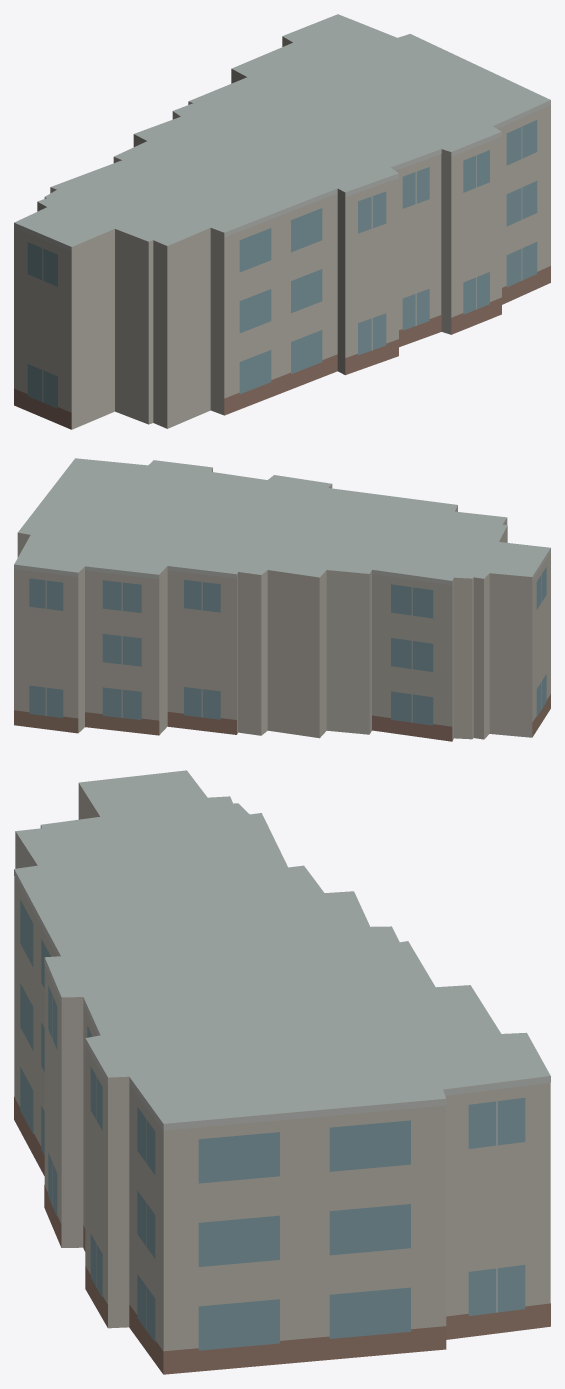
Rendered from survey-upis-32524005.glb.
The picture shows the model from 3 angles, top to bottom: view 1: azimuth 30°, elevation 25°; view 2: azimuth 150°, elevation 25°; view 3: azimuth 270°, elevation 25°; orthographic projection. The views are drawn at different scales.
Parts seen in each view (by area): view 1: survey-upis-32524005.tmp; view 2: survey-upis-32524005.tmp; view 3: survey-upis-32524005.tmp.
Boxes of the visible parts, box(x1,y1,x2,y2) form: survey-upis-32524005.tmp: box(14, 14, 550, 429); survey-upis-32524005.tmp: box(14, 458, 550, 741); survey-upis-32524005.tmp: box(14, 770, 550, 1374).
Bounding box in the file's own units: 27.69 × 9.15 × 17.76.
